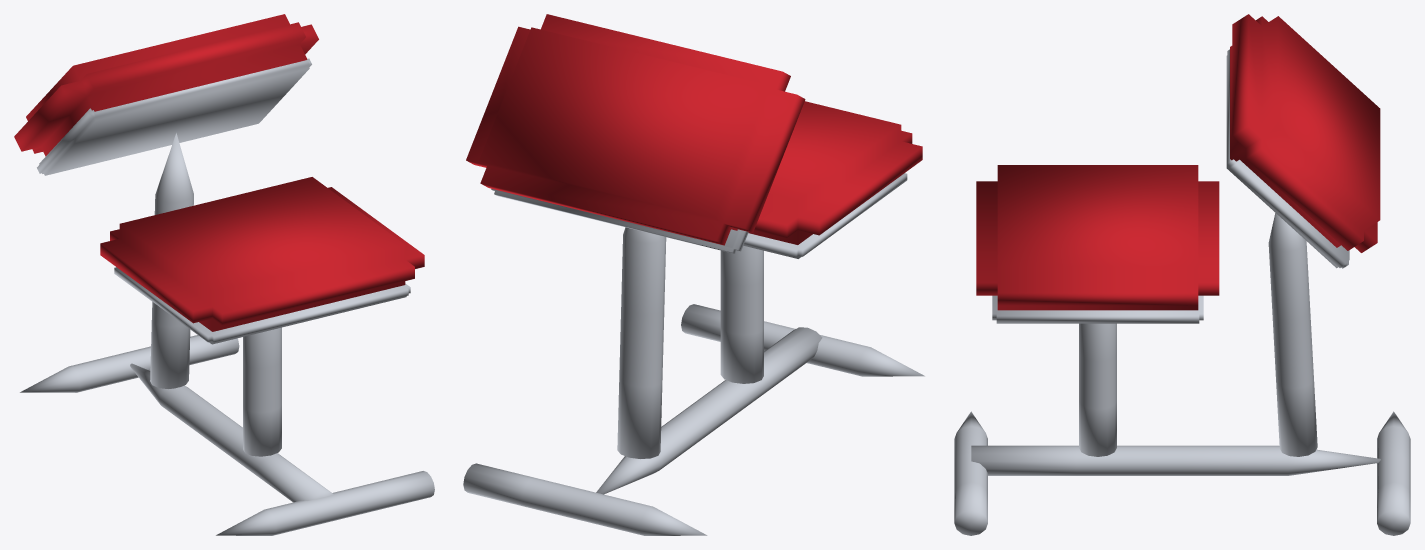
File: ChromeBench.glb
3 views of the same model, side by side, from view 1: azimuth 30°, elevation 25°; view 2: azimuth 150°, elevation 25°; view 3: azimuth 270°, elevation 25° (orthographic). The views are drawn at different scales.
Parts seen in each view (by area): view 1: ChromeBench; view 2: ChromeBench; view 3: ChromeBench.
Boxes of the visible parts, <box> form: ChromeBench: <box>14,14,434,535</box>; ChromeBench: <box>463,14,924,535</box>; ChromeBench: <box>954,14,1410,535</box>.
Bounding box in the file's own units: 2.14 × 3.11 × 3.13.
Materials: 1 (1 with a texture image).
